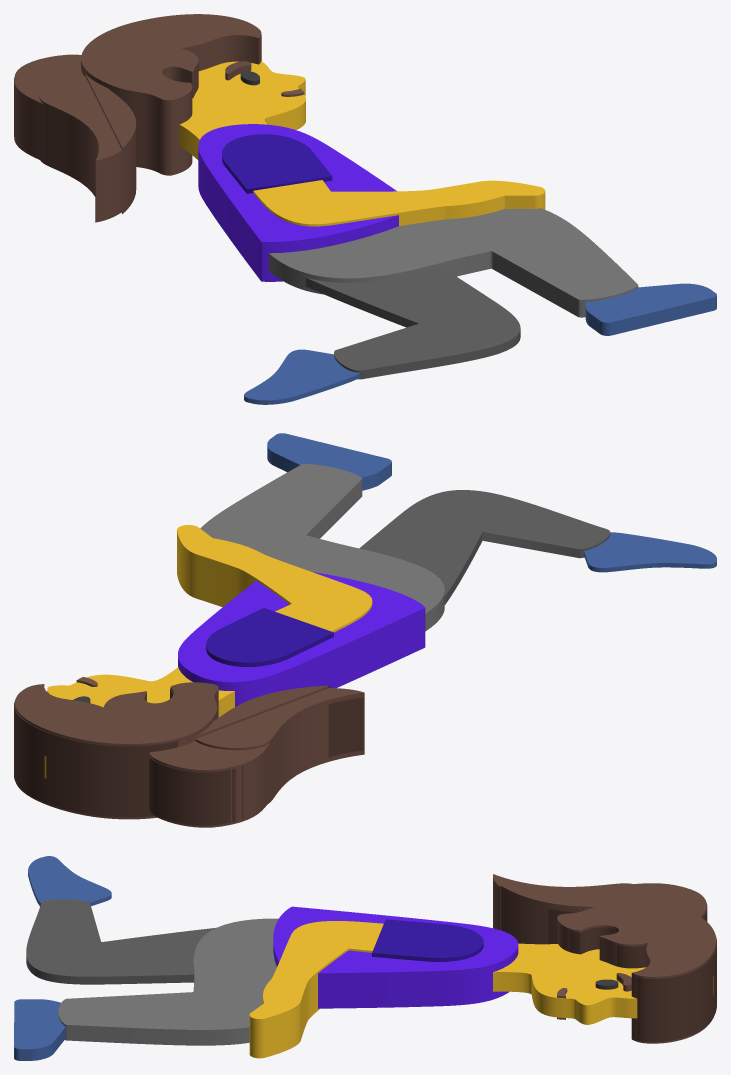
The model's file is emoji_u1f9ce_200d_2640_200d_27a1.glb.
3 views of the same model, one above another, from view 1: azimuth 30°, elevation 25°; view 2: azimuth 150°, elevation 25°; view 3: azimuth 270°, elevation 25° (orthographic). The views are drawn at different scales.
Visible parts, largest first — view 1: emoji_u1f9ce_200d_2640_200d_27a1; view 2: emoji_u1f9ce_200d_2640_200d_27a1; view 3: emoji_u1f9ce_200d_2640_200d_27a1.
Boxes of the visible parts, x1,y1,x2,y2 form: emoji_u1f9ce_200d_2640_200d_27a1: (14, 14, 716, 404); emoji_u1f9ce_200d_2640_200d_27a1: (14, 433, 716, 827); emoji_u1f9ce_200d_2640_200d_27a1: (14, 856, 716, 1060).
Size of the model in its own units: 0.0215 by 0.0034 by 0.0325.
